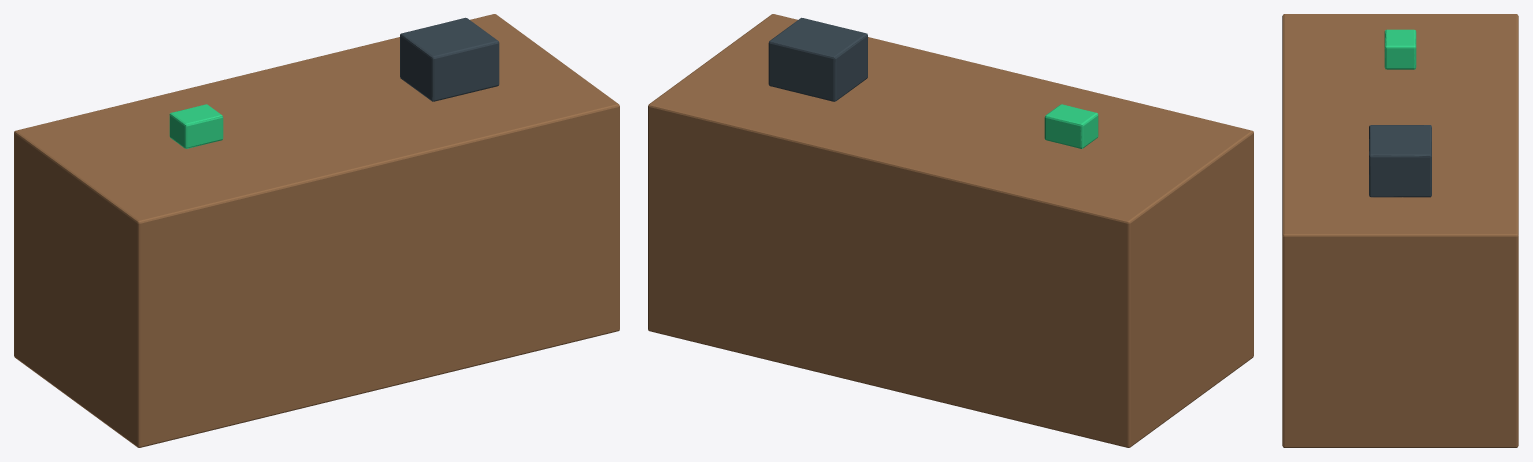
The model's file is CC_S16_P2_Expansion_Logistics_PackingStation_LOD0.fbx.
The picture shows the model from 3 angles, left to right: view 1: azimuth 30°, elevation 25°; view 2: azimuth 150°, elevation 25°; view 3: azimuth 270°, elevation 25°; orthographic projection. The views are drawn at different scales.
Parts seen in each view (by area): view 1: CC_S16_P2_Expansion_Logistics_PackingStation_LOD0_Table, CC_S16_P2_Expansion_Logistics_PackingStation_LOD0_LabelPrint (×2), CC_S16_P2_Expansion_Logistics_PackingStation_LOD0_Scanner; view 2: CC_S16_P2_Expansion_Logistics_PackingStation_LOD0_Table, CC_S16_P2_Expansion_Logistics_PackingStation_LOD0_LabelPrint (×2), CC_S16_P2_Expansion_Logistics_PackingStation_LOD0_Scanner; view 3: CC_S16_P2_Expansion_Logistics_PackingStation_LOD0_Table, CC_S16_P2_Expansion_Logistics_PackingStation_LOD0_LabelPrint (×2), CC_S16_P2_Expansion_Logistics_PackingStation_LOD0_Scanner.
Boxes of the visible parts, left/top/right/bottom form: CC_S16_P2_Expansion_Logistics_PackingStation_LOD0_Table: left=14, top=14, right=619, bottom=447; CC_S16_P2_Expansion_Logistics_PackingStation_LOD0_LabelPrint (×2): left=400, top=17, right=499, bottom=101; CC_S16_P2_Expansion_Logistics_PackingStation_LOD0_Scanner: left=169, top=104, right=223, bottom=148; CC_S16_P2_Expansion_Logistics_PackingStation_LOD0_Table: left=648, top=14, right=1253, bottom=447; CC_S16_P2_Expansion_Logistics_PackingStation_LOD0_LabelPrint (×2): left=768, top=18, right=867, bottom=101; CC_S16_P2_Expansion_Logistics_PackingStation_LOD0_Scanner: left=1044, top=104, right=1098, bottom=148; CC_S16_P2_Expansion_Logistics_PackingStation_LOD0_Table: left=1282, top=14, right=1518, bottom=447; CC_S16_P2_Expansion_Logistics_PackingStation_LOD0_LabelPrint (×2): left=1369, top=125, right=1431, bottom=197; CC_S16_P2_Expansion_Logistics_PackingStation_LOD0_Scanner: left=1384, top=29, right=1416, bottom=69.
Size of what is drawn, in the model's own units: 2 by 1.09 by 0.9.
